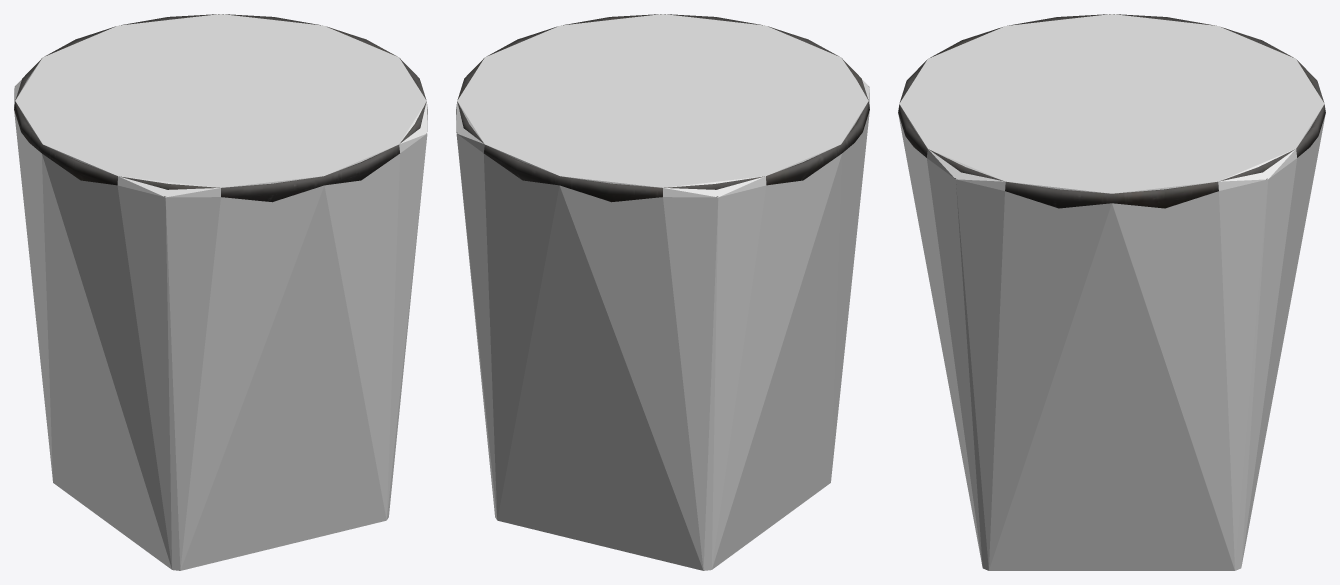
The model's file is brazier_pedestal.webp.glb.
3 views of the same model, side by side, from view 1: azimuth 30°, elevation 25°; view 2: azimuth 150°, elevation 25°; view 3: azimuth 270°, elevation 25° (orthographic). The views are drawn at different scales.
Parts seen in each view (by area): view 1: COL, LOD0_body; view 2: COL, LOD0_body; view 3: COL, LOD0_body.
Part boxes in pixels (x1=…): COL: x1=14, y1=14, x2=427, y2=570; LOD0_body: x1=14, y1=14, x2=426, y2=202; COL: x1=456, y1=14, x2=869, y2=570; LOD0_body: x1=456, y1=14, x2=869, y2=202; COL: x1=898, y1=14, x2=1325, y2=570; LOD0_body: x1=898, y1=14, x2=1325, y2=208.
Size of the model in its own units: 1.72 by 1.83 by 1.72.
2 materials, 1 textured.
